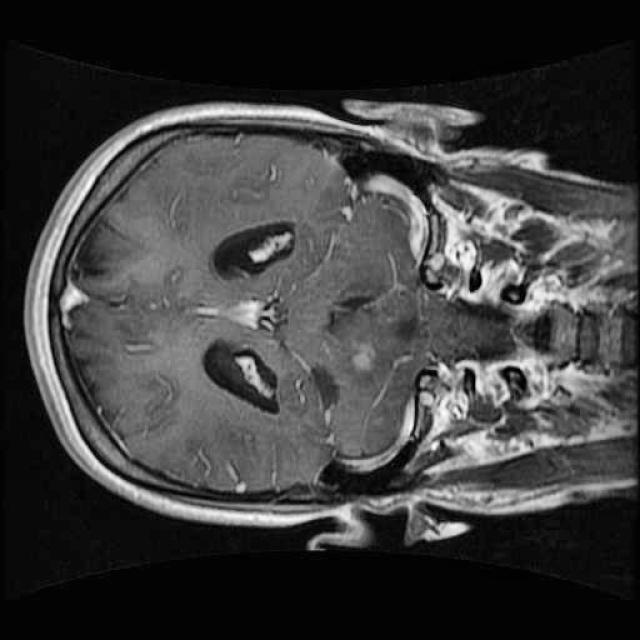Non-Tumor: (335, 324, 395, 398)
